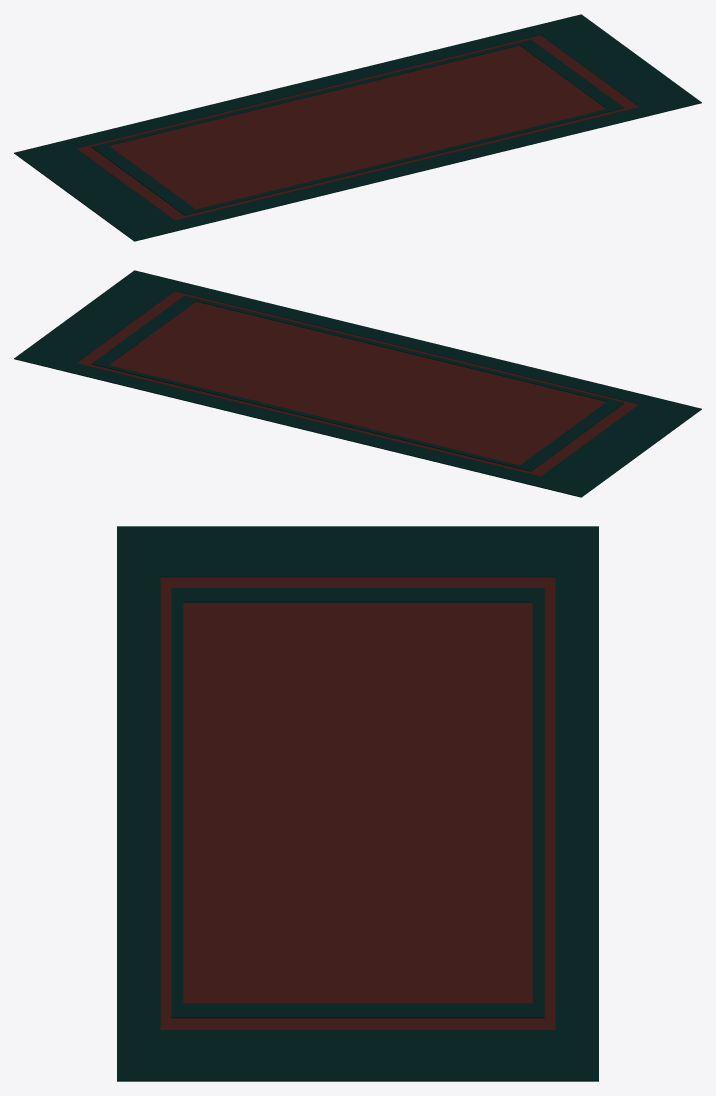
Rendered from Rug Square Big.fbx.
3 renders of one model, top to bottom at view 1: azimuth 30°, elevation 25°; view 2: azimuth 150°, elevation 25°; view 3: azimuth 270°, elevation 25°, orthographic. The views are drawn at different scales.
Visible parts, largest first — view 1: Rug 3.001; view 2: Rug 3.001; view 3: Rug 3.001.
Part boxes in pixels (x1,y1,x2,y2): Rug 3.001: (14, 14, 701, 241); Rug 3.001: (14, 270, 701, 497); Rug 3.001: (117, 526, 598, 1081).
Bounding box in the file's own units: 691 × 1.29 × 254.
